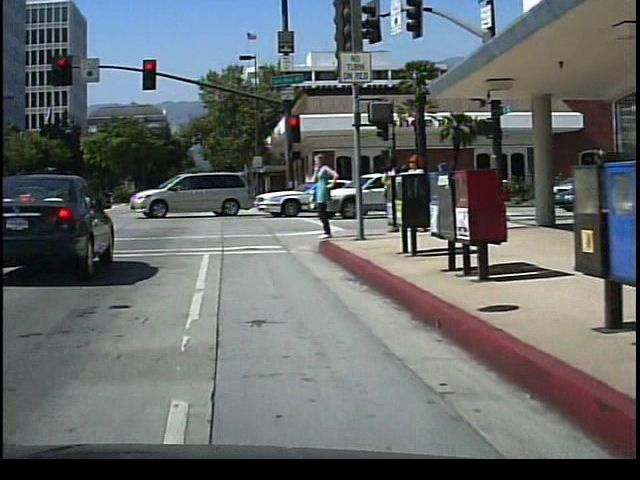person: (305, 147, 338, 243), (400, 148, 431, 236), (373, 149, 399, 230)
